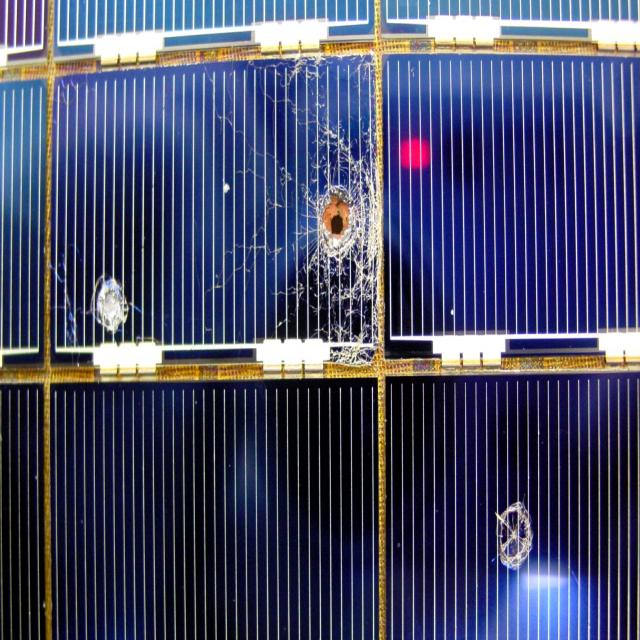hotspot: (481, 458, 551, 604), (69, 252, 141, 342)
shadow: (284, 133, 392, 299)
